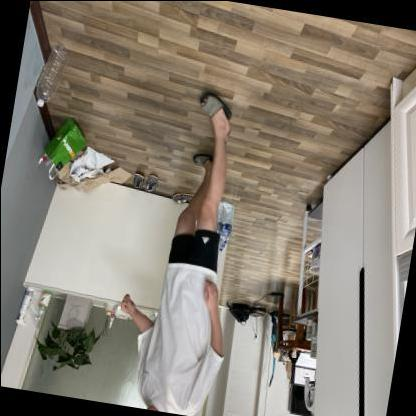no_safety-shoe: (183, 78, 247, 142)
